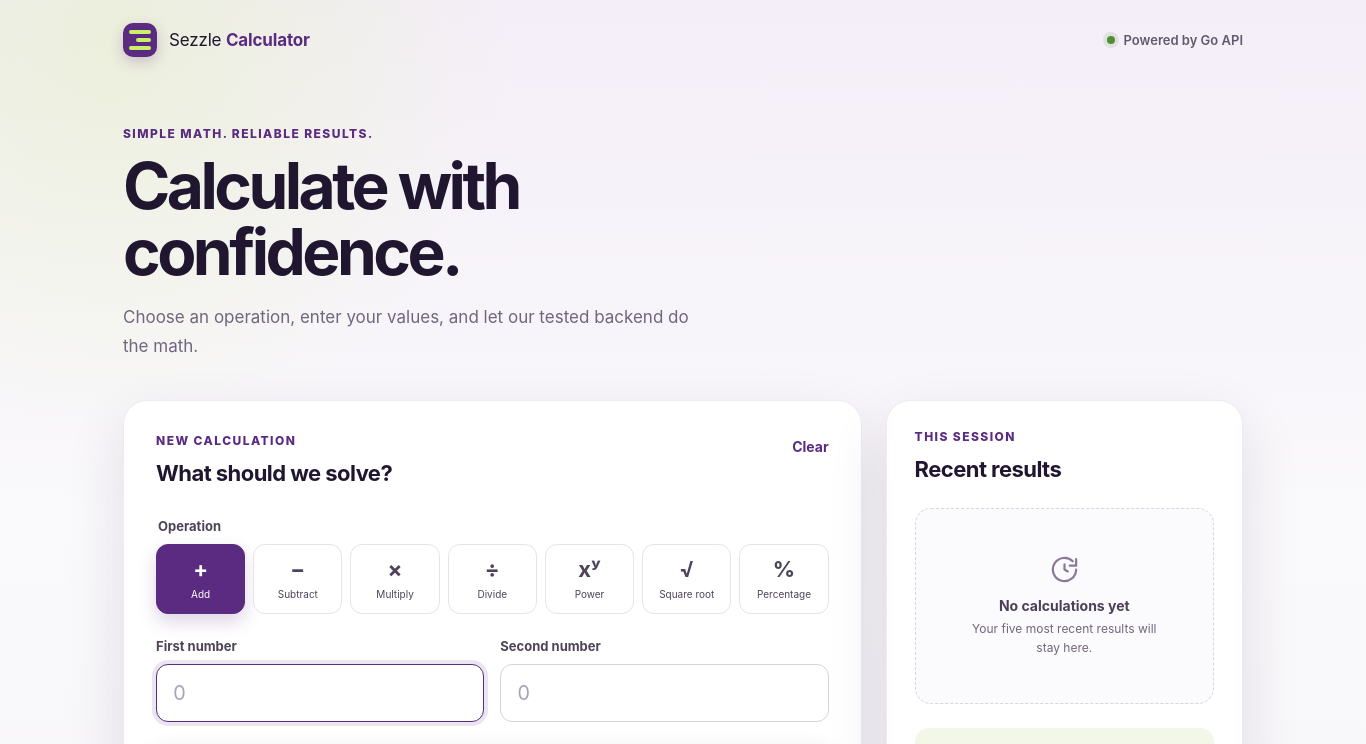
Test: App › sends one operand for unary operations
Click the button "√ Square root".
click(687, 579)  # box [642, 544, 731, 614]
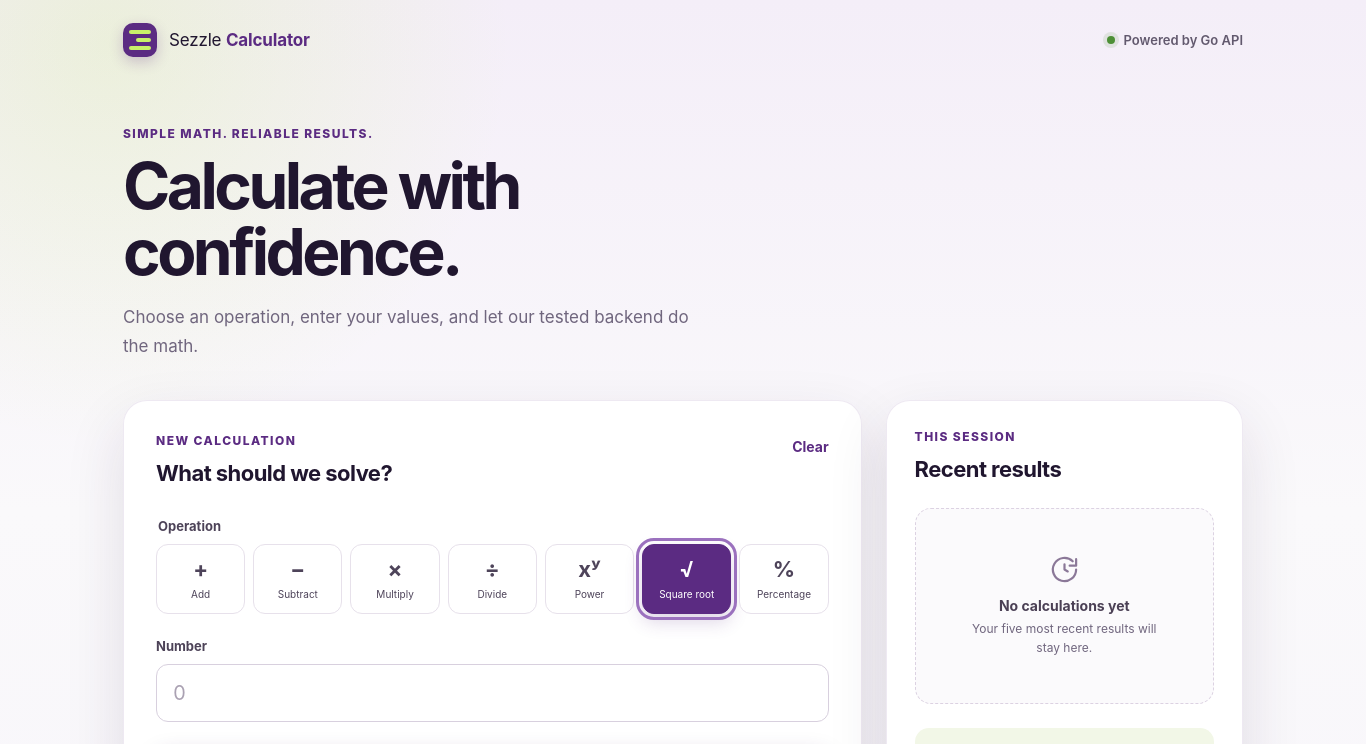
Type "81" into the field labelled "Number".
click(492, 693); type("81")  # box [156, 664, 829, 722]
(page scrolled)
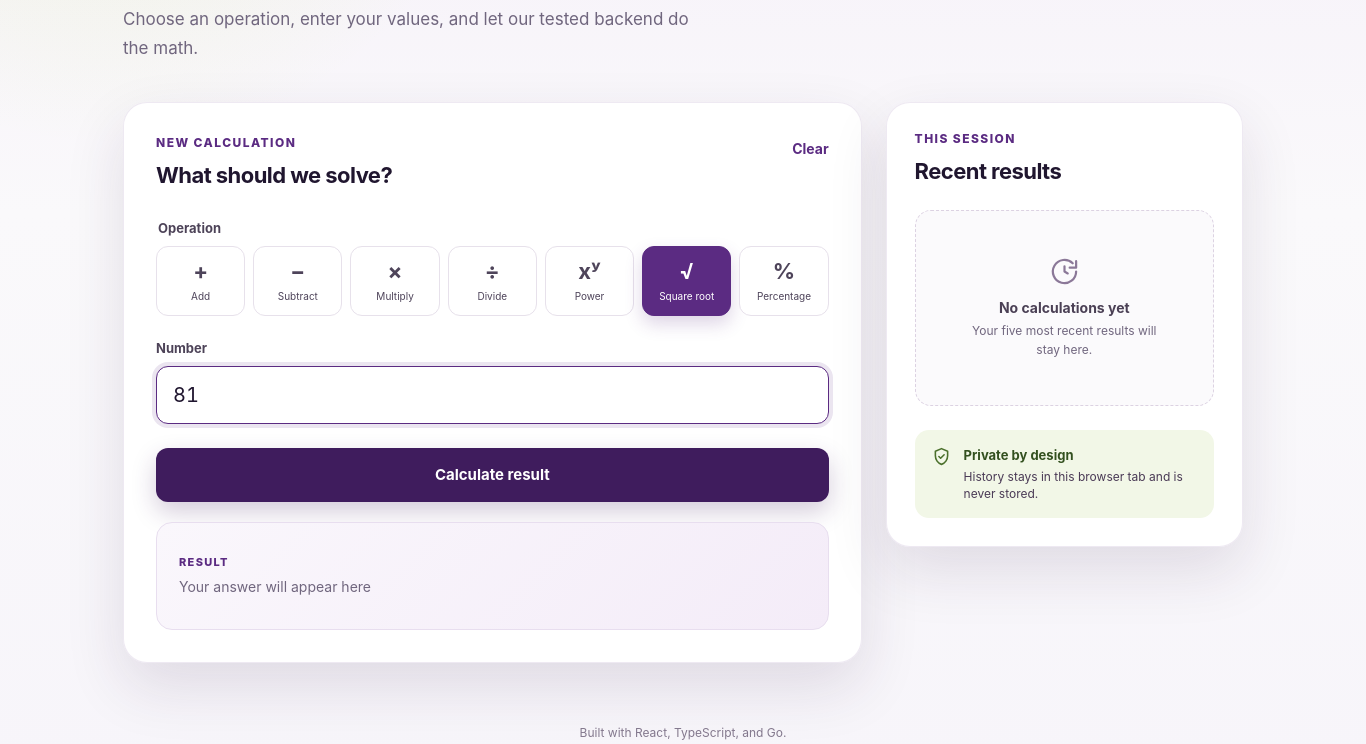
Expected: the text labelled "Second number" is not shown
Click the button "Calculate result".
click(492, 475)  # box [156, 448, 829, 502]
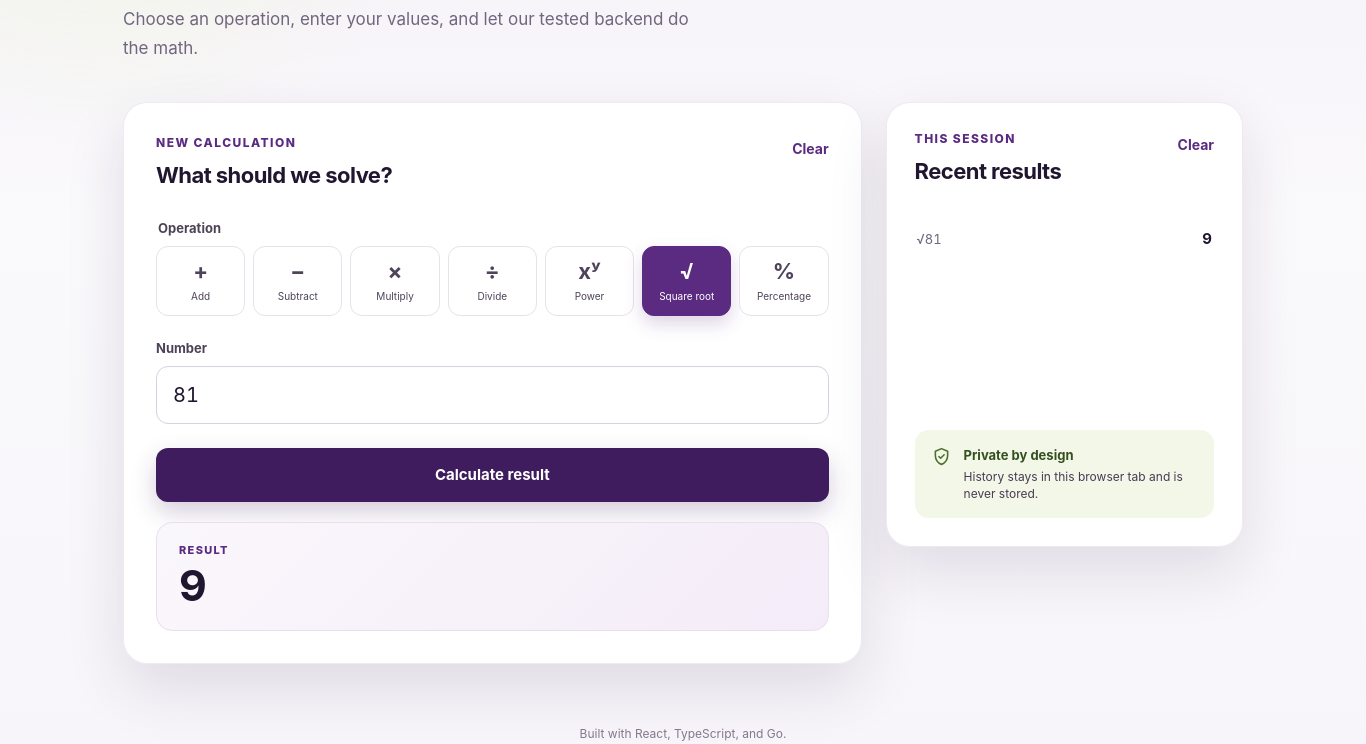
Expected: the text named "Result: 9" is shown, [179, 559, 205, 611]
